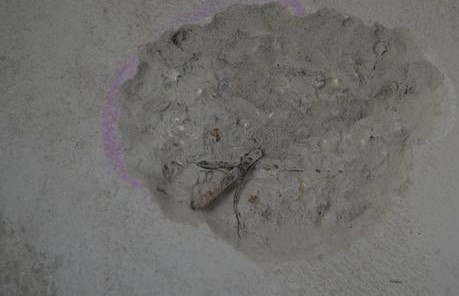Exposed reinforcement: (191, 149, 263, 211)
Spalling: (117, 1, 448, 271)
